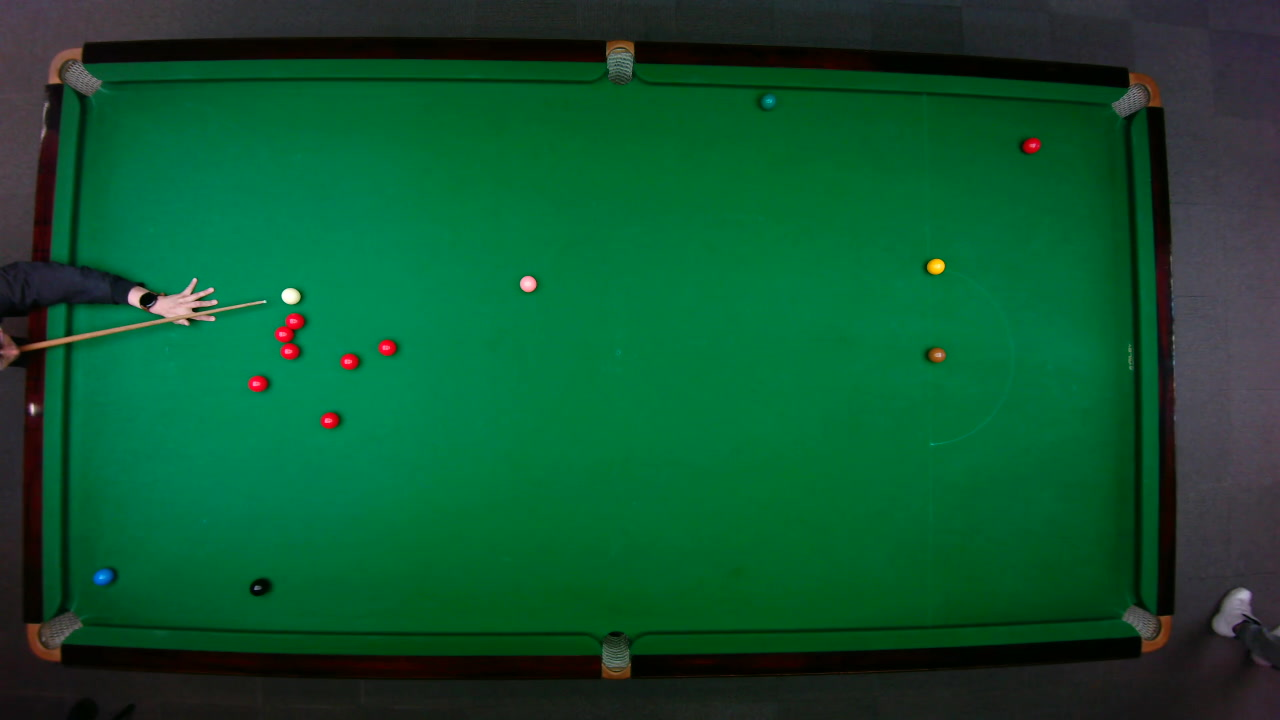bag: (25, 609, 84, 661), (46, 47, 101, 96), (1119, 603, 1172, 652), (1108, 71, 1161, 117), (600, 629, 629, 680), (605, 38, 633, 85)
black: (248, 577, 268, 596)
blue: (91, 566, 114, 585)
brown: (926, 346, 946, 362)
cue: (19, 297, 269, 355)
green: (758, 92, 776, 110)
pink: (518, 274, 537, 292)
red: (318, 410, 340, 429), (376, 337, 397, 356), (272, 324, 294, 342), (246, 374, 268, 392), (284, 312, 305, 330), (278, 342, 300, 359), (1021, 136, 1041, 154), (338, 352, 359, 369)
white: (280, 285, 301, 304)
yellow: (925, 257, 945, 274)
zone: (926, 265, 1013, 445)
